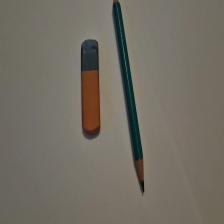eraser: (82, 40, 102, 136)
pencil: (114, 1, 146, 194)
